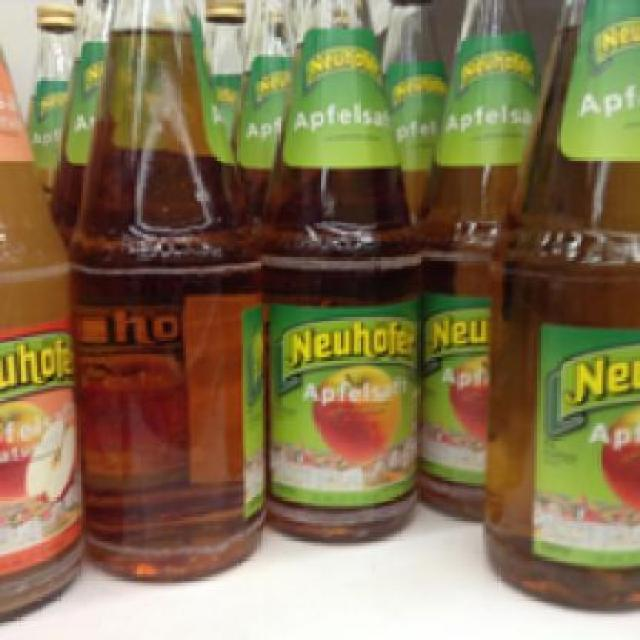Juice: (70, 0, 266, 583), (470, 0, 632, 615), (251, 0, 423, 540)
